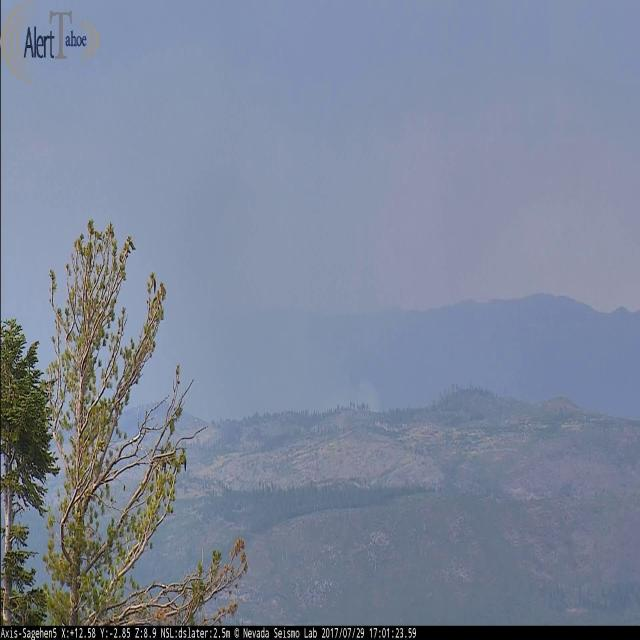smoke: (318, 367, 381, 414)
